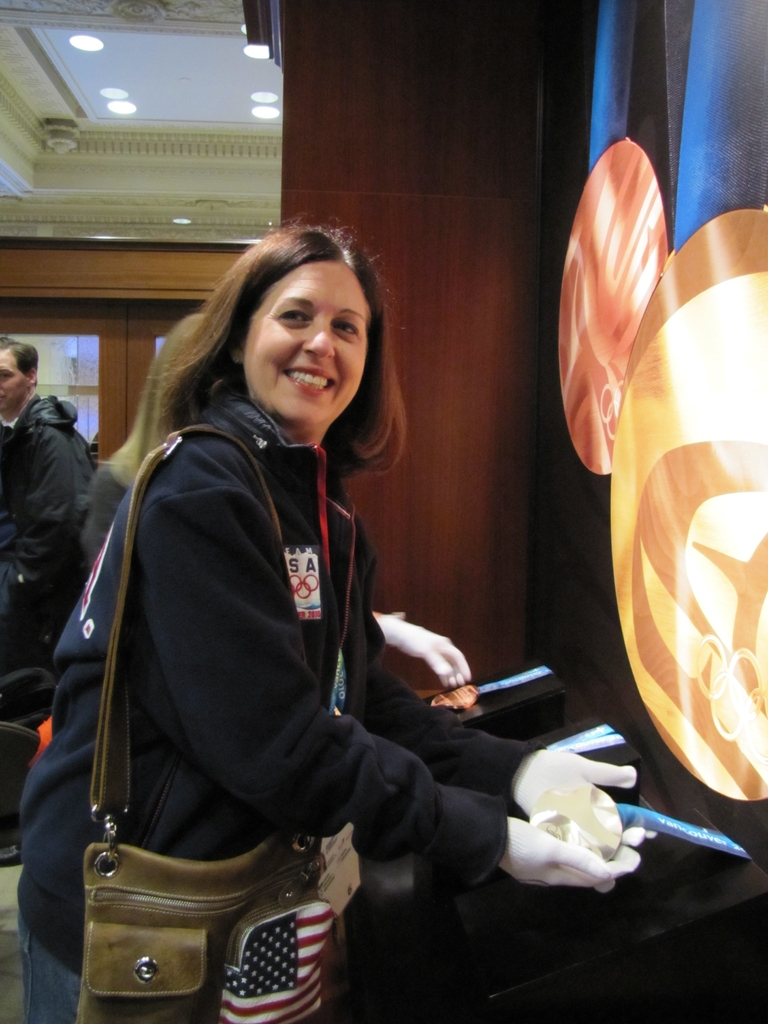Human_hand: (499, 811, 639, 899), (398, 627, 472, 691)
